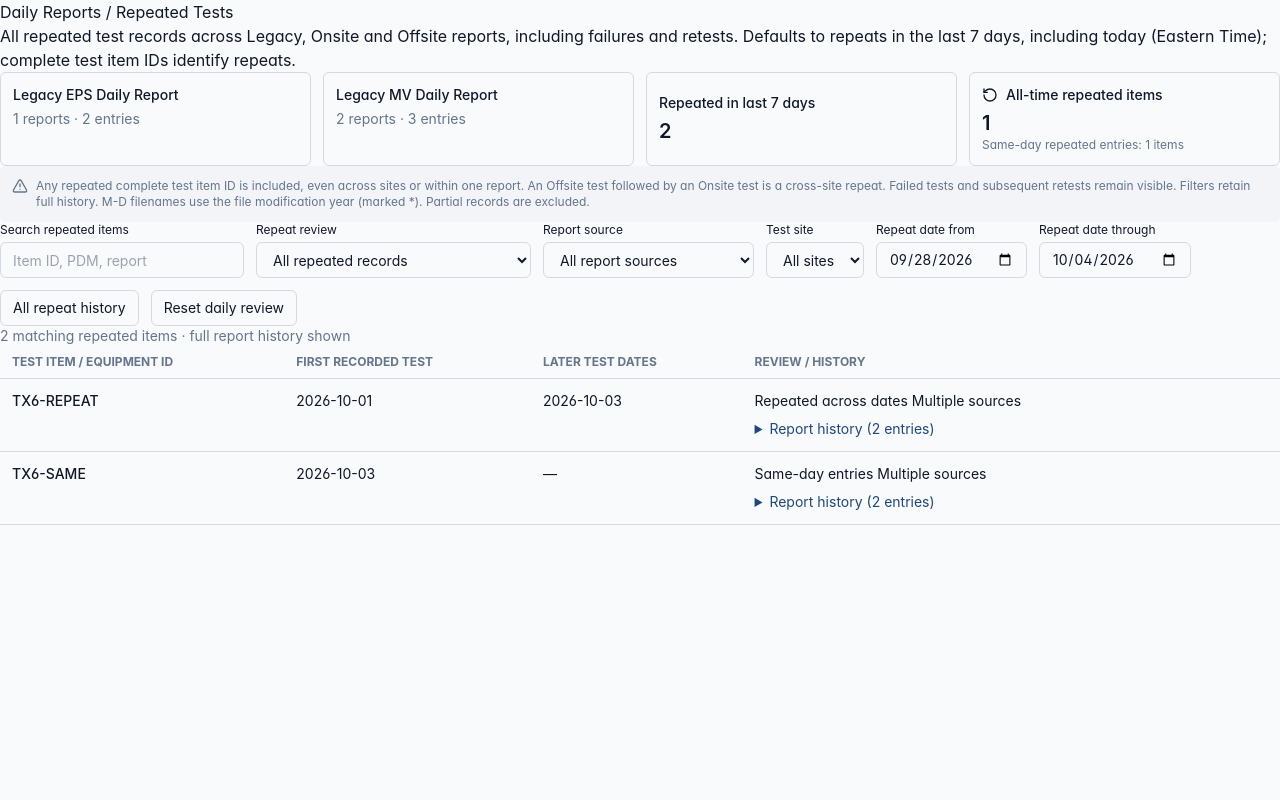
Test case: DailyReportAuditPanel › filters repeated dates and shows the original failure and later retest evidence
Check: the text "TX6-SAME" is shown, box [0,452,284,524]
Select "Repeated on different dates" in the dropdown labelled "Repeat review": (394, 260) [256,242,531,278]
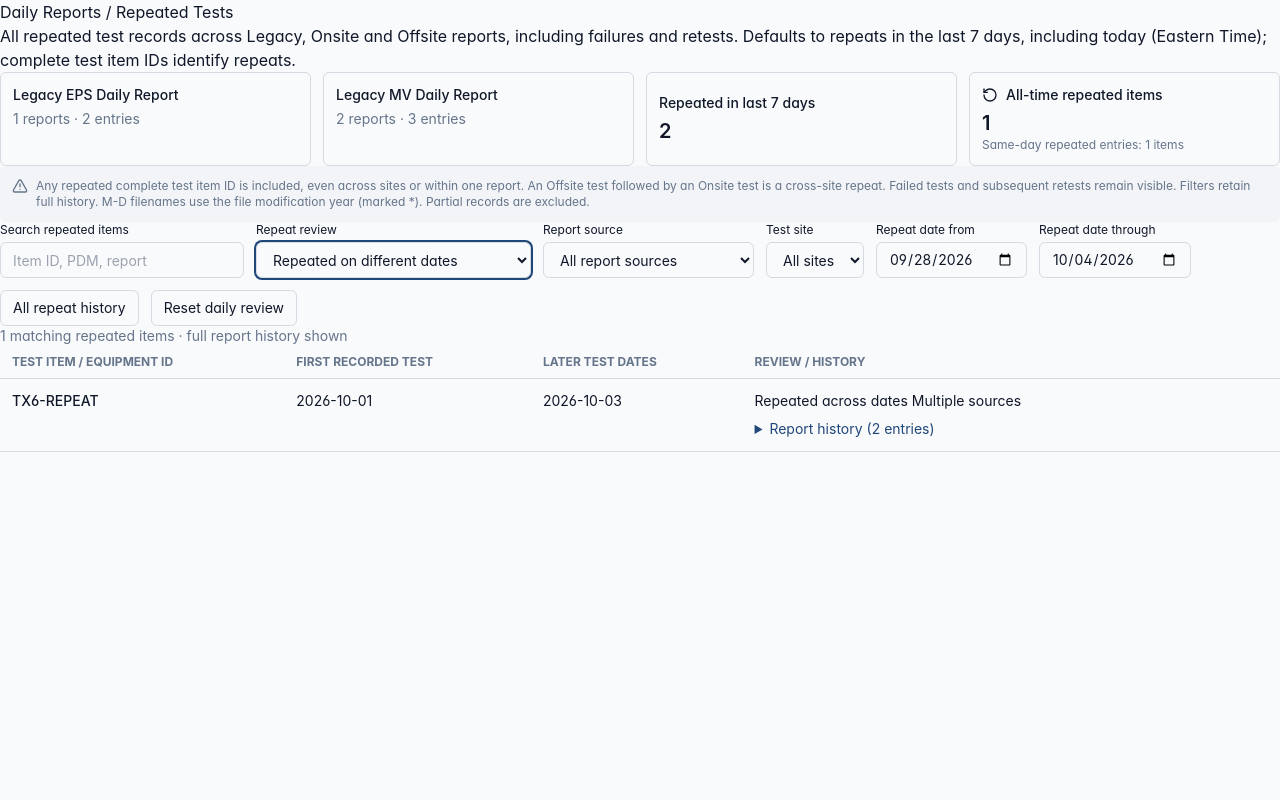
Check: the text "2026-10-01" is shown, box [284,378,531,452]
Check: the text "TX6-SAME" is gone
Click the heading "Report history (2 entries)": (852, 428) [769,420,935,437]
(page scrolled)
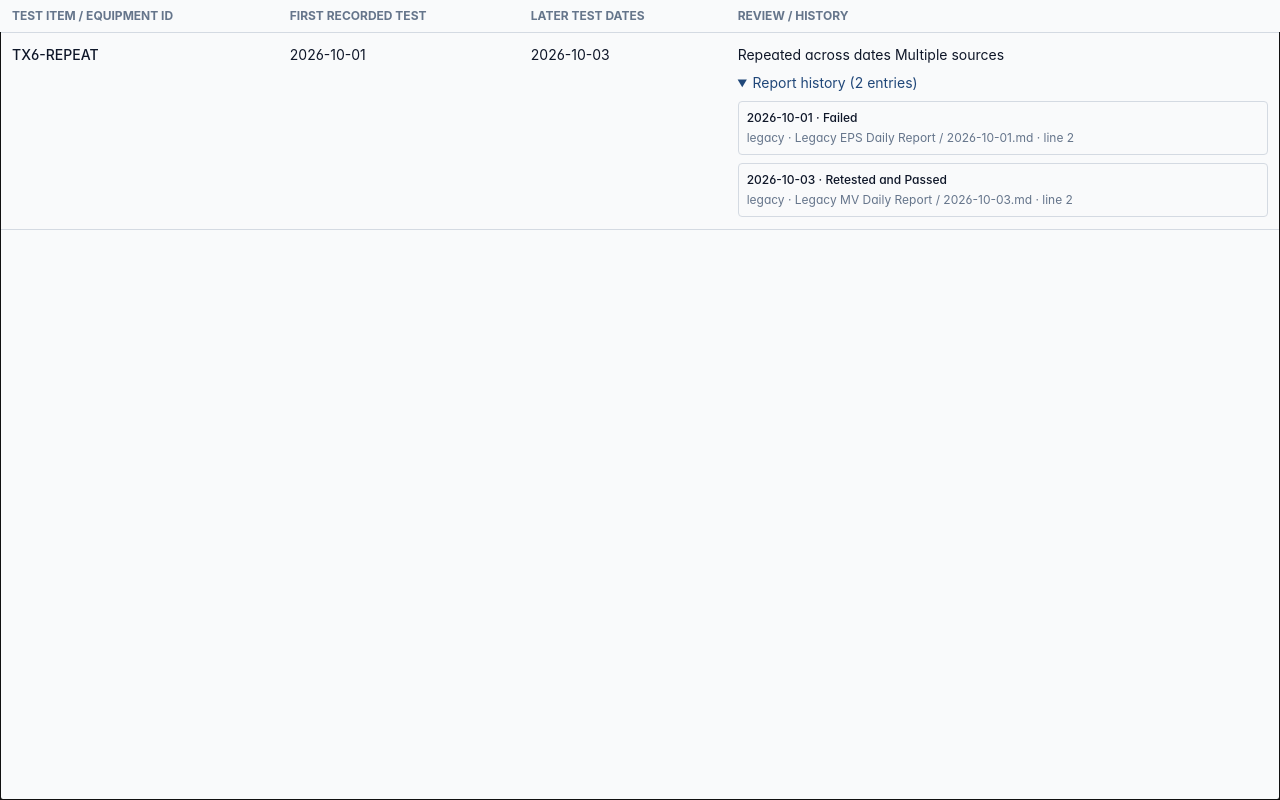
Check: the text "2026-10-01 · Failed" is shown, box [747,110,857,125]
Check: the text "2026-10-03 · Retested and Passed" is shown, box [747,172,947,187]
Check: the text "legacy · Legacy EPS Daily Report / 2026-10-01.md · line 2" is shown, box [747,130,1074,145]
